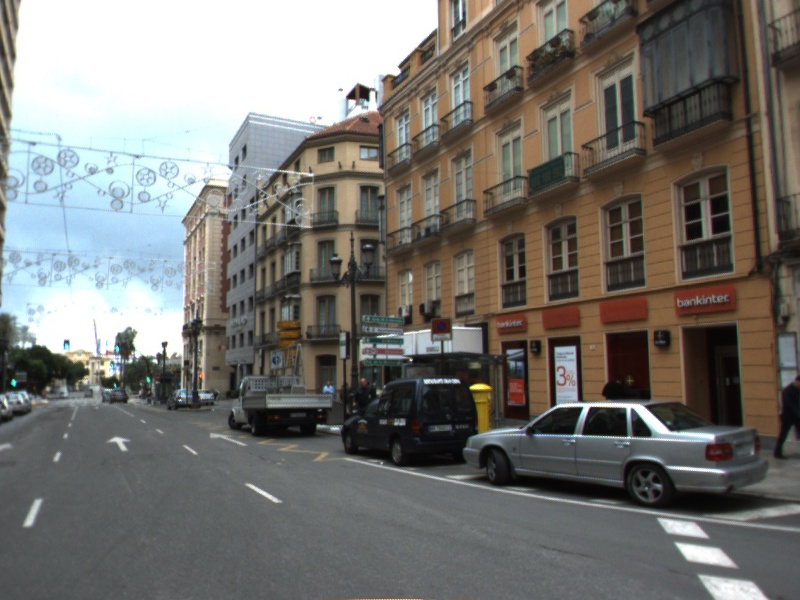STRAIGHT: (207, 429, 251, 449), (103, 433, 134, 454)
